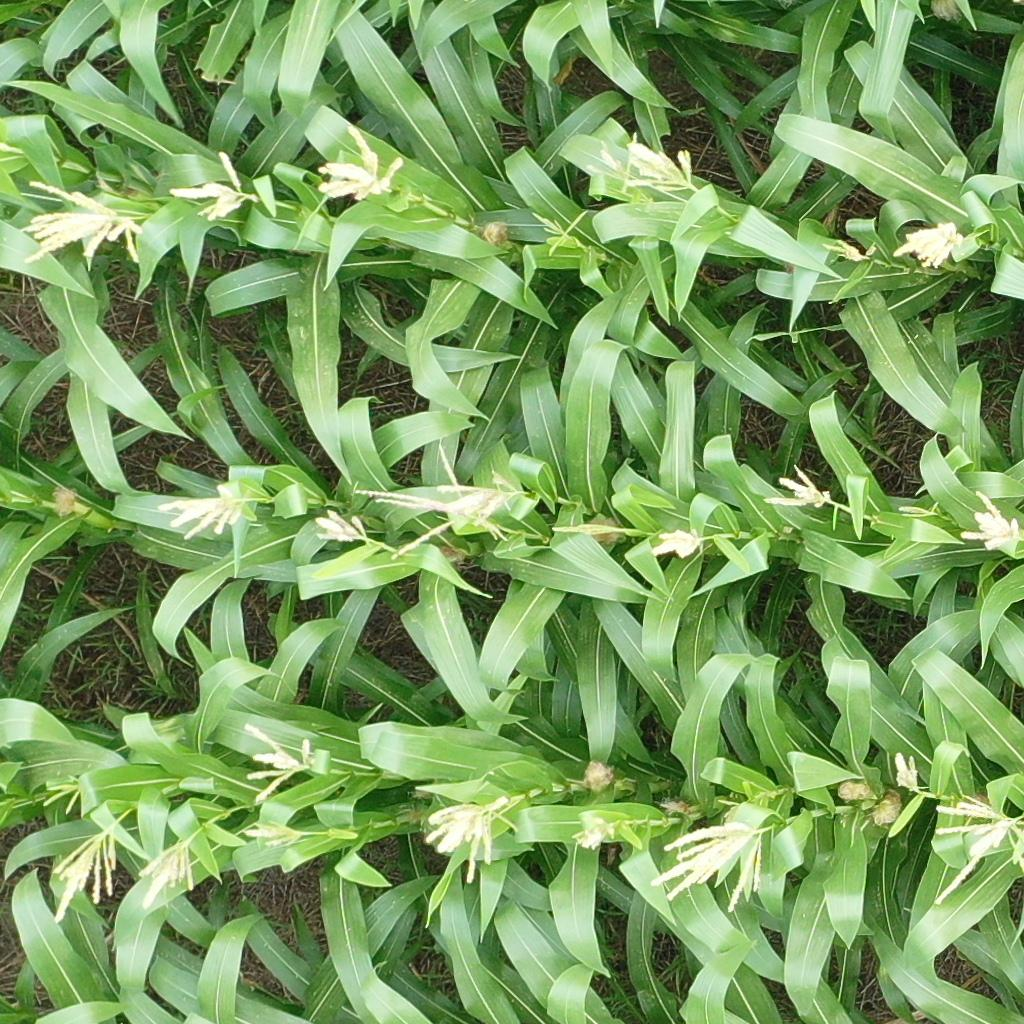Tassel: (355, 447, 514, 561), (647, 819, 777, 915), (19, 179, 149, 272), (928, 792, 1024, 906), (423, 793, 522, 885), (49, 826, 123, 926), (314, 127, 407, 203), (168, 152, 257, 224), (243, 723, 317, 801), (157, 484, 255, 541), (437, 469, 532, 526), (134, 838, 205, 911), (623, 141, 698, 198), (958, 490, 1023, 551), (757, 464, 832, 510), (894, 219, 961, 270), (531, 200, 589, 257), (585, 131, 638, 190), (313, 509, 374, 547), (652, 527, 707, 563), (42, 775, 86, 816), (242, 818, 301, 847), (893, 752, 926, 798), (822, 237, 878, 263), (578, 819, 619, 851), (549, 520, 617, 538), (898, 497, 944, 522)
